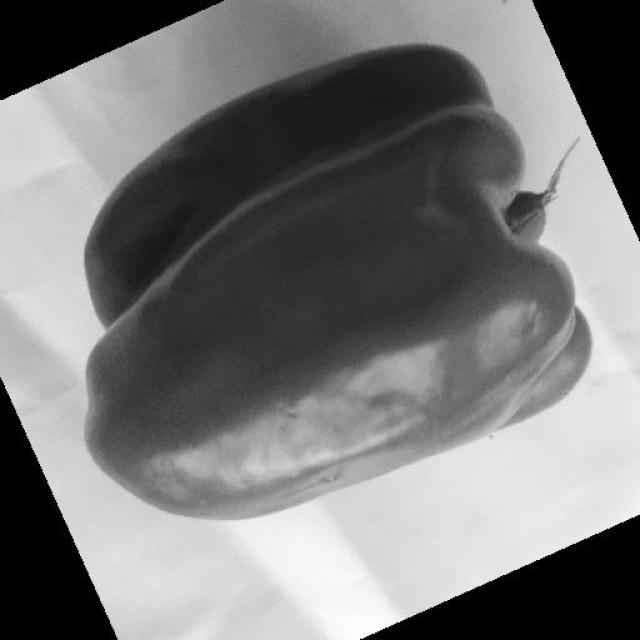Fresh_Capsicum: (74, 84, 617, 502)
